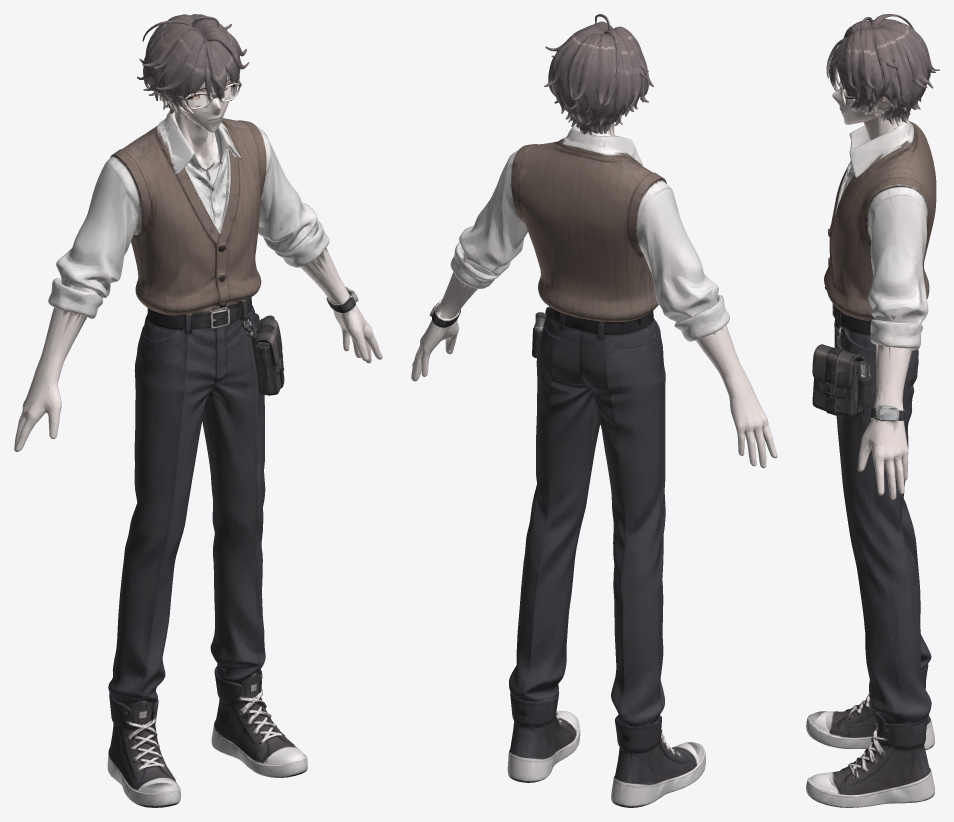
Rendered from shen_yanchuan.glb.
3 views of the same model, side by side, from view 1: azimuth 30°, elevation 25°; view 2: azimuth 150°, elevation 25°; view 3: azimuth 270°, elevation 25° (orthographic).
Parts seen in each view (by area): view 1: Mesh_0; view 2: Mesh_0; view 3: Mesh_0.
Part boxes in pixels (<box>): Mesh_0: <box>14,14,382,807</box>; Mesh_0: <box>411,14,777,807</box>; Mesh_0: <box>806,14,939,807</box>.
Bounding box in the file's own units: 0.8348 × 1.65 × 0.2667.
1 material, 1 textured.
